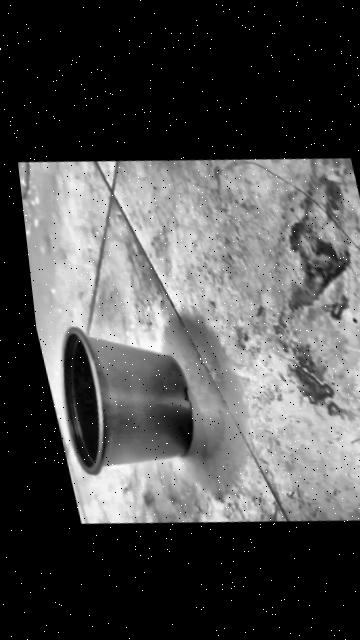pot: (43, 310, 209, 488)
